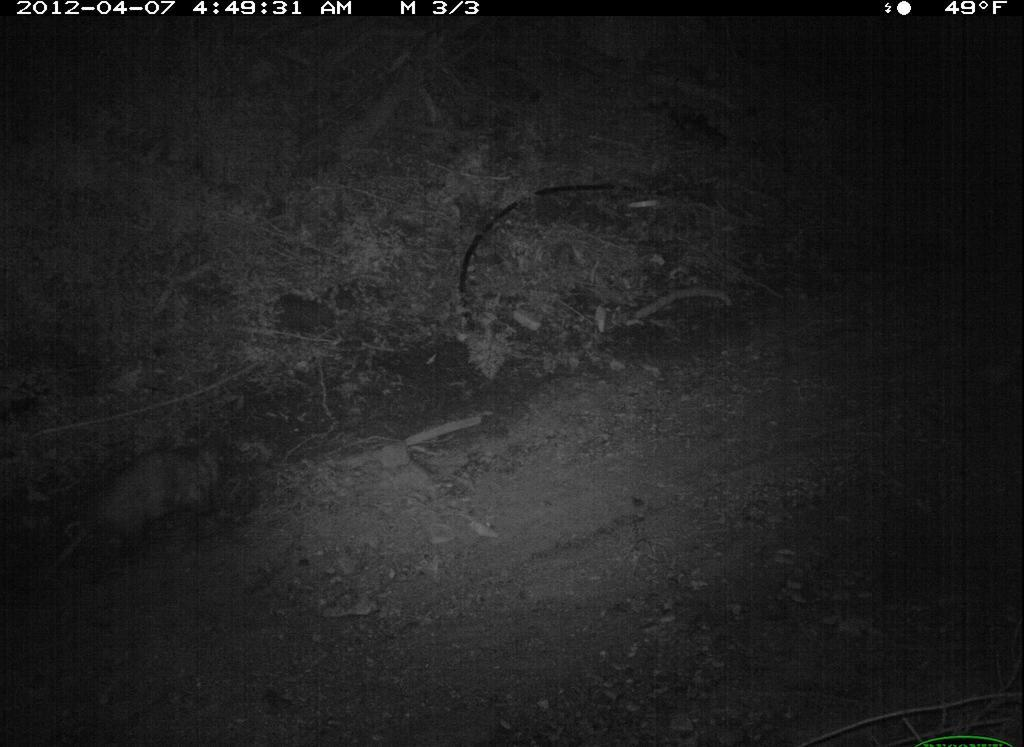opossum: (36, 434, 240, 591)
